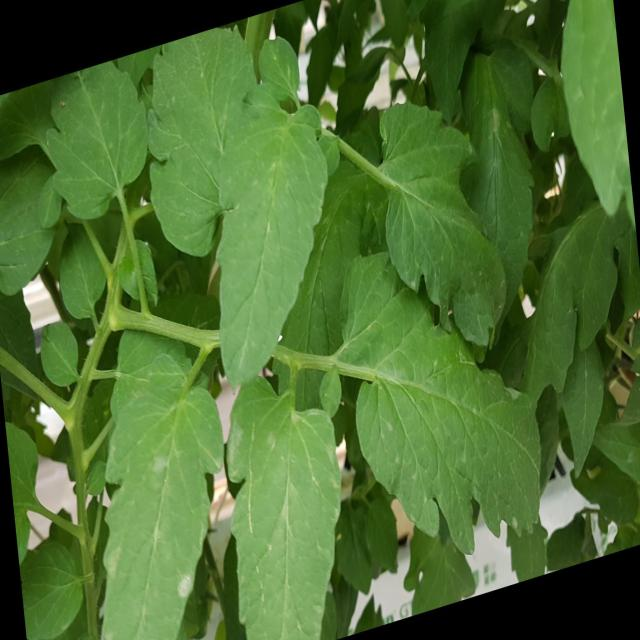Healthy Leaf: (340, 249, 554, 559), (92, 301, 224, 638), (214, 75, 335, 402), (364, 111, 510, 360), (222, 372, 350, 640), (40, 26, 150, 228), (39, 308, 86, 386)
